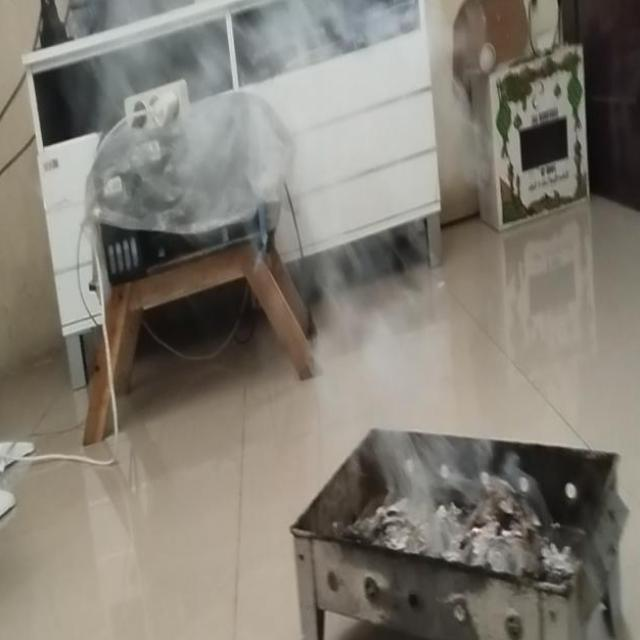fire: (306, 277, 492, 503), (144, 0, 308, 185)
